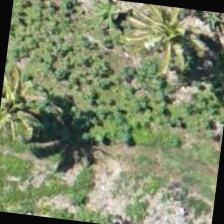Kelapa_Sawit: (119, 2, 217, 80), (0, 62, 56, 158)
